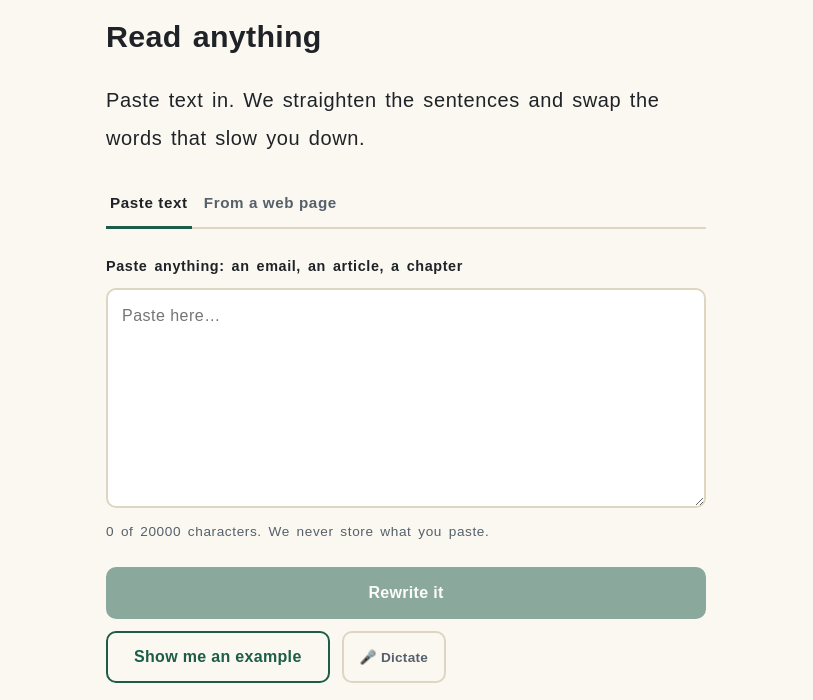
Test case: Read anything — Summary (v0.6, Pro) › shows an upgrade nudge instead of a working Summary button for a free reader
Type "The clock struck noon." into the text box labelled "Paste anything: an email, an article, a chapter" at {"x": 406, "y": 398}, box [106, 288, 706, 508]
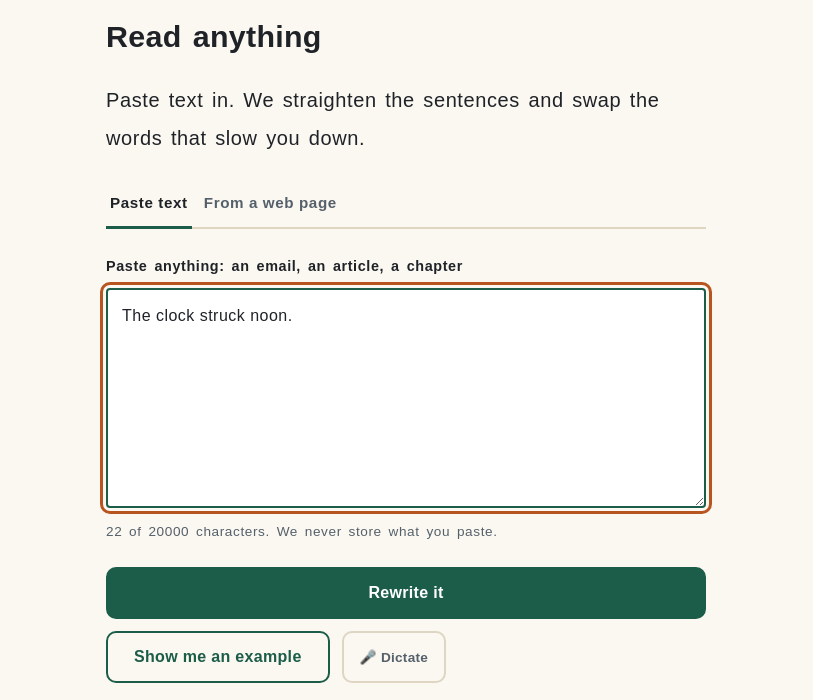
Click the button "Rewrite it" at {"x": 406, "y": 593}, box [106, 567, 706, 619]
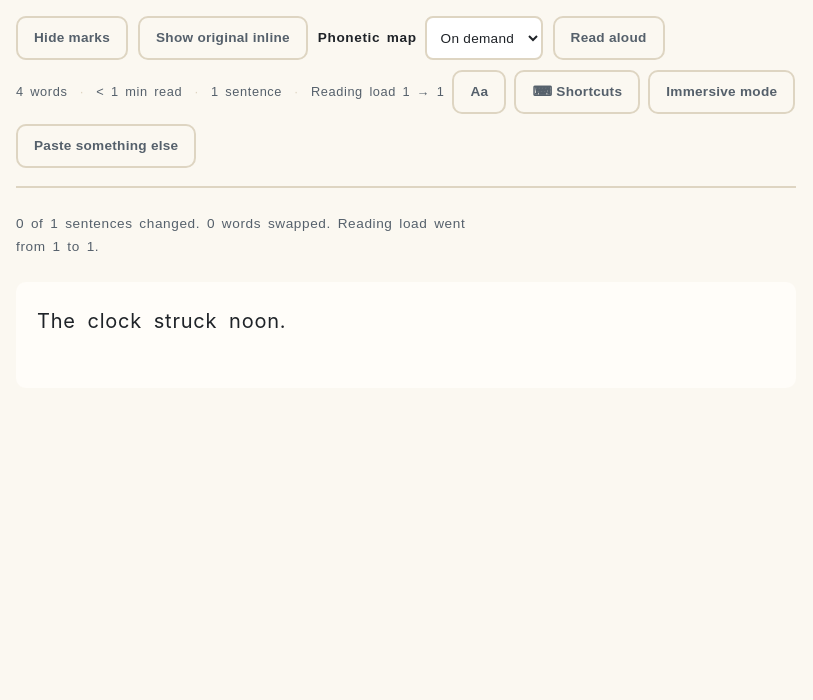
Expected: the text "sentences changed" is shown, [58, 216, 207, 231]
